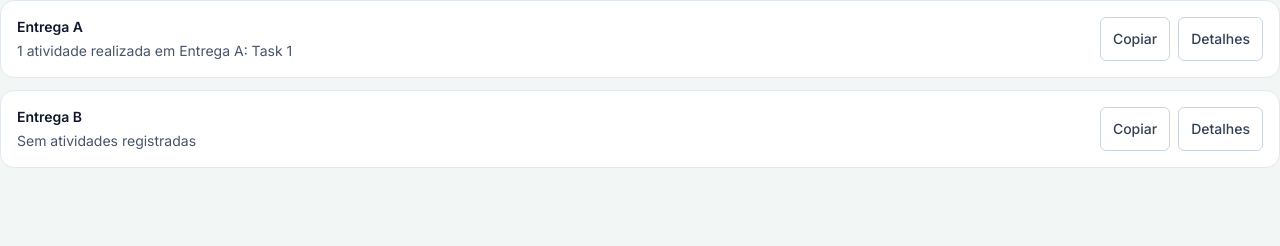
Test: PgdEntregaList › renders empty and filled entregas
Expected: the heading "Entrega A" is shown, top-left (17, 18), bottom-right (83, 35)
Expected: the text "Sem atividades registradas" is shown, top-left (17, 131), bottom-right (196, 151)
Click the button with aria-label "Expandir tarefas da entrega Entrega A": [1221, 39] box top-left (1178, 17), bottom-right (1263, 61)
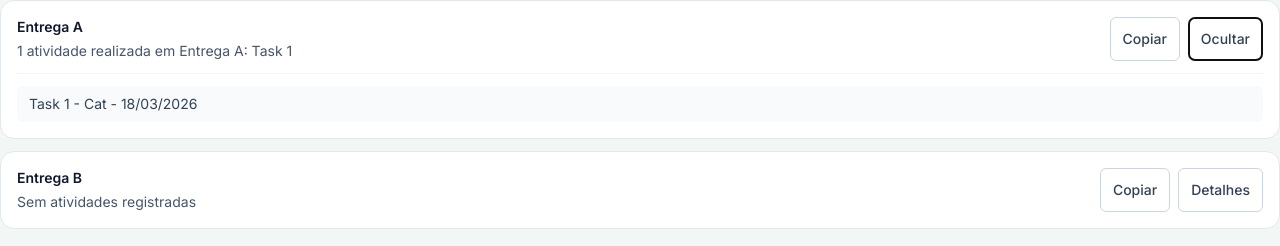
Result: the list item "Task 1 - Cat - 18/03/2026" is shown at top-left (17, 86), bottom-right (1263, 122)
